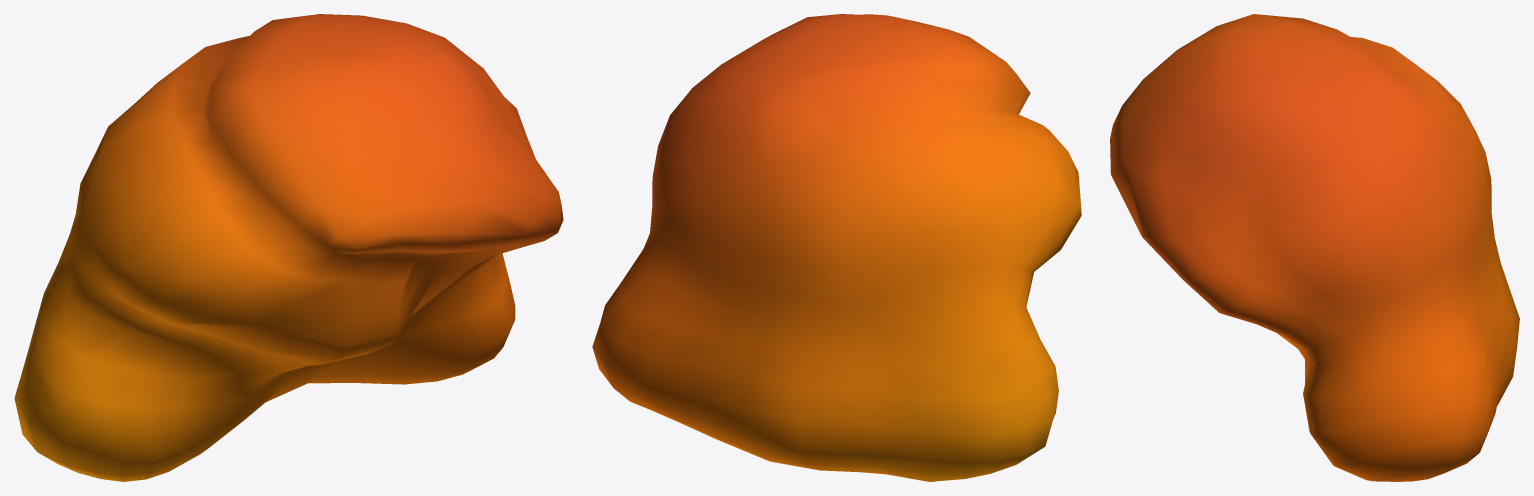
File: Hairstyle_Female_01.glb
The picture shows the model from 3 angles, left to right: view 1: azimuth 30°, elevation 25°; view 2: azimuth 150°, elevation 25°; view 3: azimuth 270°, elevation 25°; orthographic projection. The views are drawn at different scales.
Parts seen in each view (by area): view 1: Hairstyle_Female_01; view 2: Hairstyle_Female_01; view 3: Hairstyle_Female_01.
Part boxes in pixels (left/top/right/bottom): Hairstyle_Female_01: left=14, top=14, right=563, bottom=481; Hairstyle_Female_01: left=592, top=14, right=1081, bottom=481; Hairstyle_Female_01: left=1110, top=14, right=1519, bottom=481.
Size of the model in its own units: 0.7252 by 0.6169 by 0.5983.
1 material, 1 textured.
